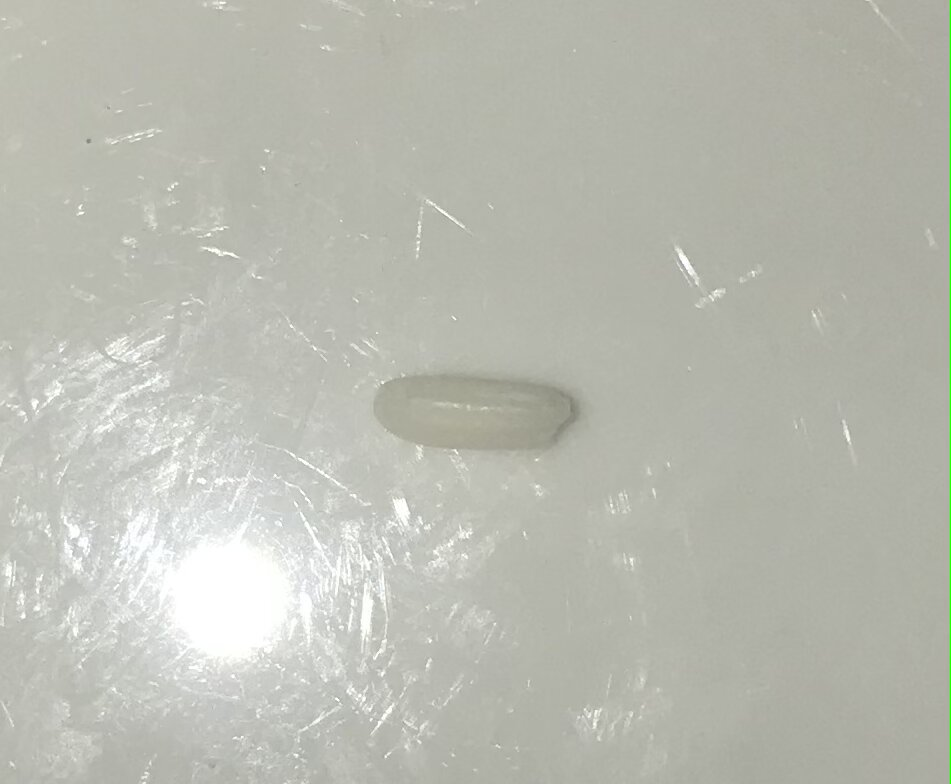Gao Lai Sua: (373, 362, 580, 458)
